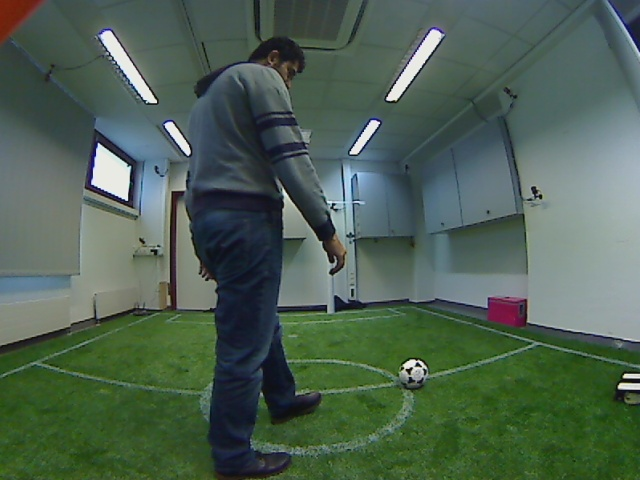ball: (392, 353, 433, 393)
